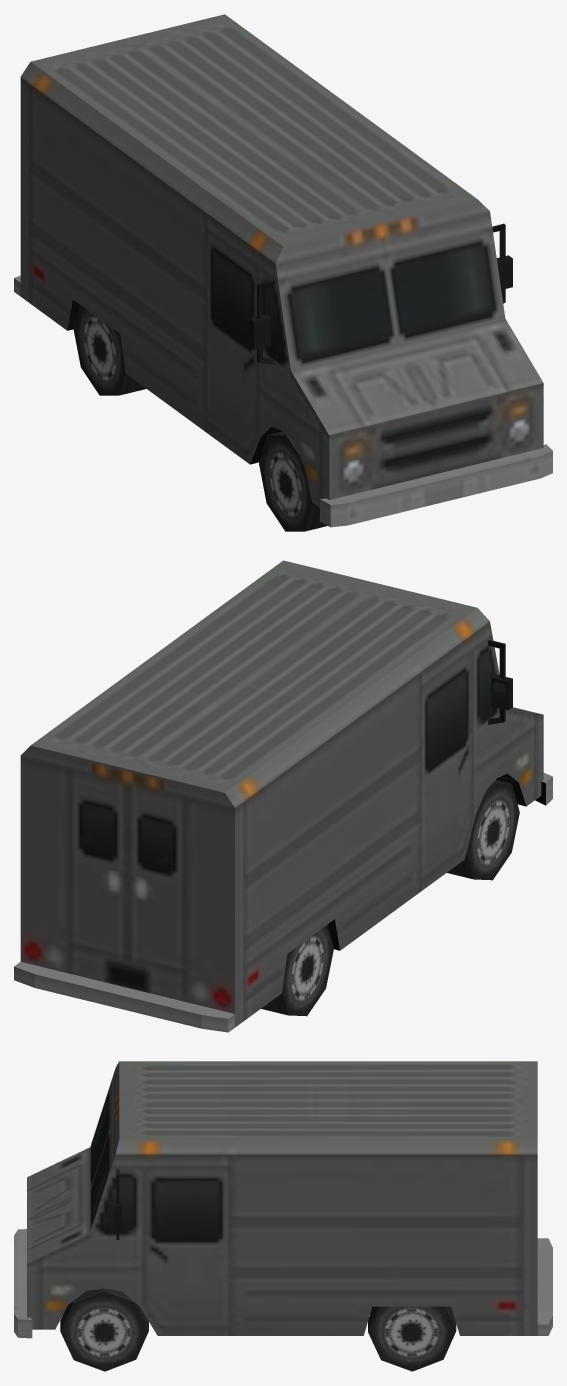
File: car8.glb
3 renders of one model, top to bottom at view 1: azimuth 30°, elevation 25°; view 2: azimuth 150°, elevation 25°; view 3: azimuth 270°, elevation 25°, orthographic. The views are drawn at different scales.
Visible parts, largest first — view 1: Car8; view 2: Car8; view 3: Car8.
Part boxes in pixels (box(x1,y1,x2,y2)): Car8: box(14, 14, 552, 531); Car8: box(14, 560, 552, 1032); Car8: box(14, 1061, 552, 1371).
Size of the model in its own units: 3.17 by 3.23 by 6.89.
Materials: 1 (1 with a texture image).
